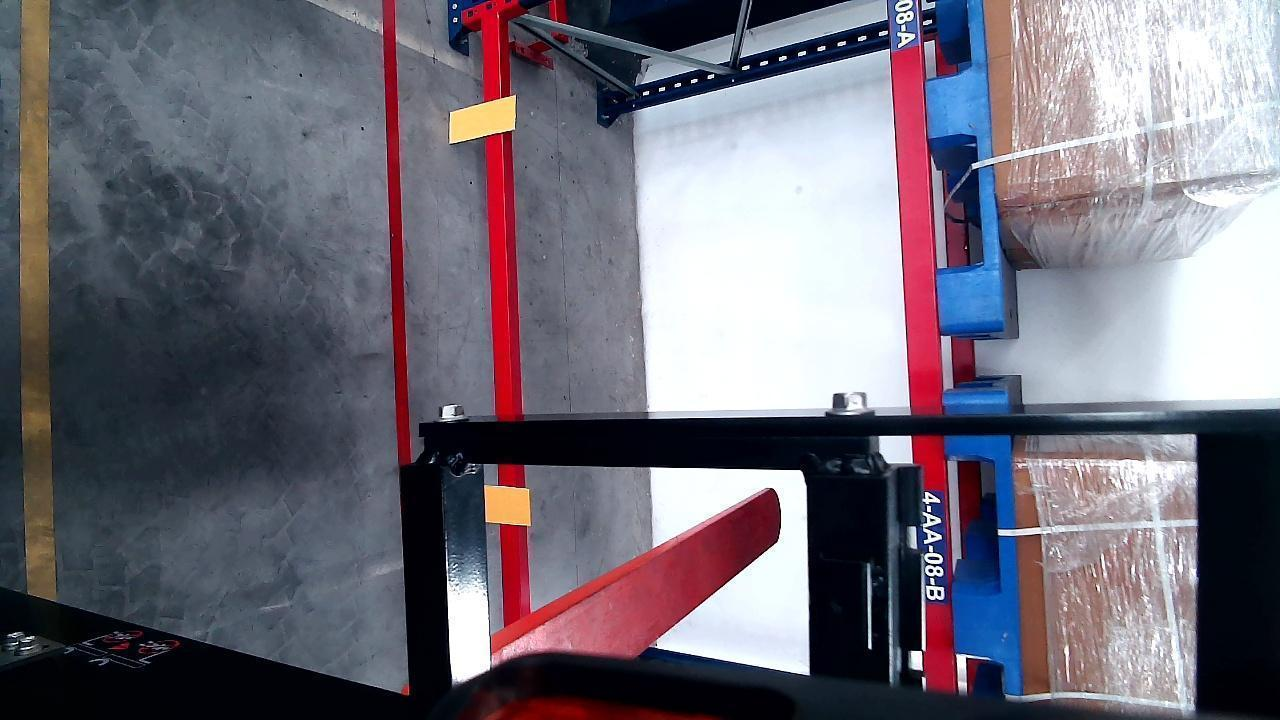red_line: (382, 0, 413, 453)
yellow_line: (18, 3, 55, 602)
